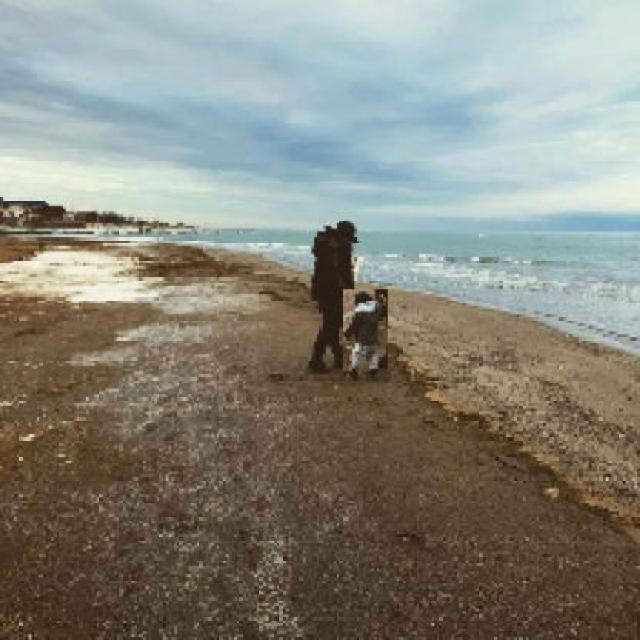child: (342, 289, 388, 382)
